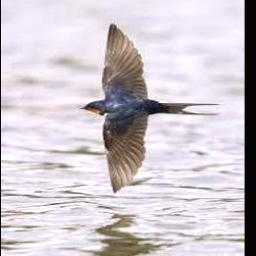Swallow: (81, 23, 222, 194)
